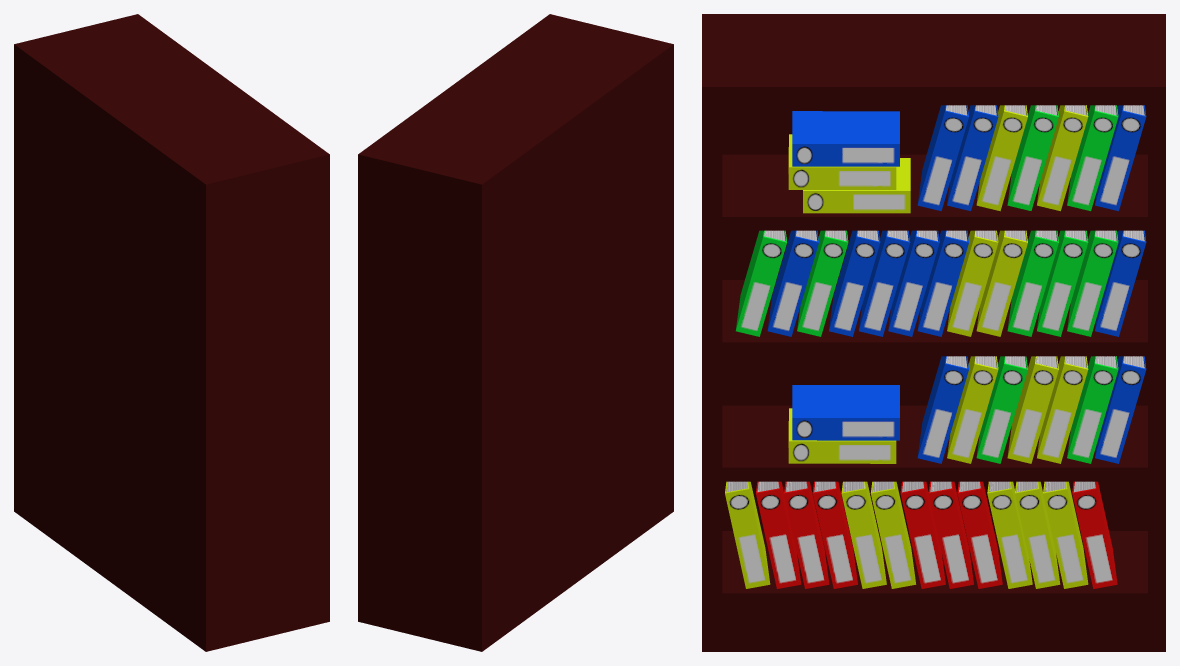
The model's file is officeShelf(me).fbx.
3 renders of one model, left to right at view 1: azimuth 30°, elevation 25°; view 2: azimuth 150°, elevation 25°; view 3: azimuth 270°, elevation 25°, orthographic. The views are drawn at different scales.
Parts seen in each view (by area): view 1: Electricity_videos_models:shelf; view 2: Electricity_videos_models:shelf; view 3: Electricity_videos_models:shelf, Electricity_videos_models:yellow_file14, yellow_file14, blue_file12, Electricity_videos_models:blue_file, green_file8, Electricity_videos_models:green_file, Electricity_videos_models:blue_file1, Electricity_videos_models:blue_file12, Electricity_videos_models:green_file3, green_file9, Electricity_videos_models:green_file8 (+34 smaller).
Part boxes in pixels (<box>): Electricity_videos_models:shelf: <box>14,14,329,651</box>; Electricity_videos_models:shelf: <box>358,14,673,651</box>; Electricity_videos_models:shelf: <box>702,14,1165,651</box>; Electricity_videos_models:yellow_file14: <box>792,111,899,166</box>; yellow_file14: <box>792,385,899,440</box>; blue_file12: <box>917,356,968,463</box>; Electricity_videos_models:blue_file: <box>767,230,818,336</box>; green_file8: <box>1007,356,1058,463</box>; Electricity_videos_models:green_file: <box>735,230,787,336</box>; Electricity_videos_models:blue_file1: <box>829,230,880,336</box>; Electricity_videos_models:blue_file12: <box>917,105,968,211</box>; Electricity_videos_models:green_file3: <box>1007,230,1058,336</box>; green_file9: <box>1067,356,1118,463</box>; Electricity_videos_models:green_file8: <box>1007,105,1058,210</box>.
Size of the model in its own units: 60.75 by 219 by 163.
Materials: 5 (4 with a texture image).
